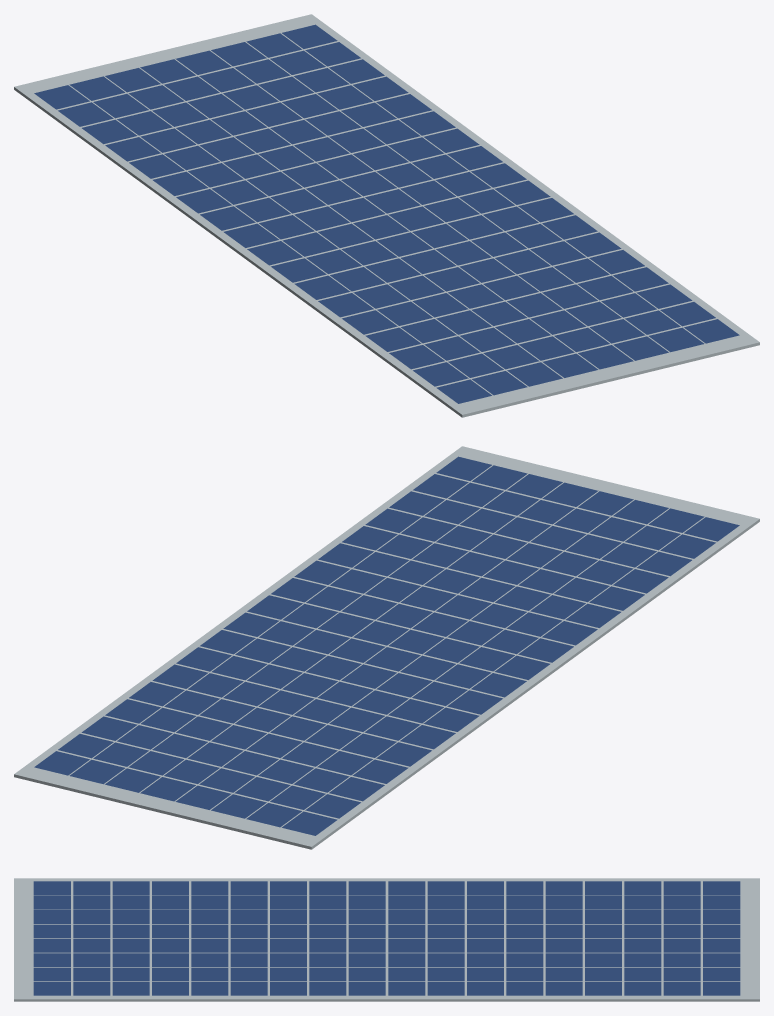
Rendered from zvezda.wing_base.solar_r.glb.
3 renders of one model, top to bottom at view 1: azimuth 30°, elevation 25°; view 2: azimuth 150°, elevation 25°; view 3: azimuth 270°, elevation 25°, orthographic. The views are drawn at different scales.
Visible parts, largest first — view 1: zvezda.wing_base.solar_r.cells.mesh_Blue_photovoltaic_cells, zvezda.wing_base.solar_r.cells.mesh_Satin_aluminum; view 2: zvezda.wing_base.solar_r.cells.mesh_Blue_photovoltaic_cells, zvezda.wing_base.solar_r.cells.mesh_Satin_aluminum; view 3: zvezda.wing_base.solar_r.cells.mesh_Blue_photovoltaic_cells, zvezda.wing_base.solar_r.cells.mesh_Satin_aluminum.
Part boxes in pixels (bbox=[...]): zvezda.wing_base.solar_r.cells.mesh_Blue_photovoltaic_cells: bbox=[34, 24, 739, 403]; zvezda.wing_base.solar_r.cells.mesh_Satin_aluminum: bbox=[14, 14, 759, 417]; zvezda.wing_base.solar_r.cells.mesh_Blue_photovoltaic_cells: bbox=[34, 456, 739, 835]; zvezda.wing_base.solar_r.cells.mesh_Satin_aluminum: bbox=[14, 446, 759, 849]; zvezda.wing_base.solar_r.cells.mesh_Blue_photovoltaic_cells: bbox=[33, 881, 740, 995]; zvezda.wing_base.solar_r.cells.mesh_Satin_aluminum: bbox=[14, 878, 759, 1001].
Bounding box in the file's own units: 2.27 × 0.0225 × 5.92.
